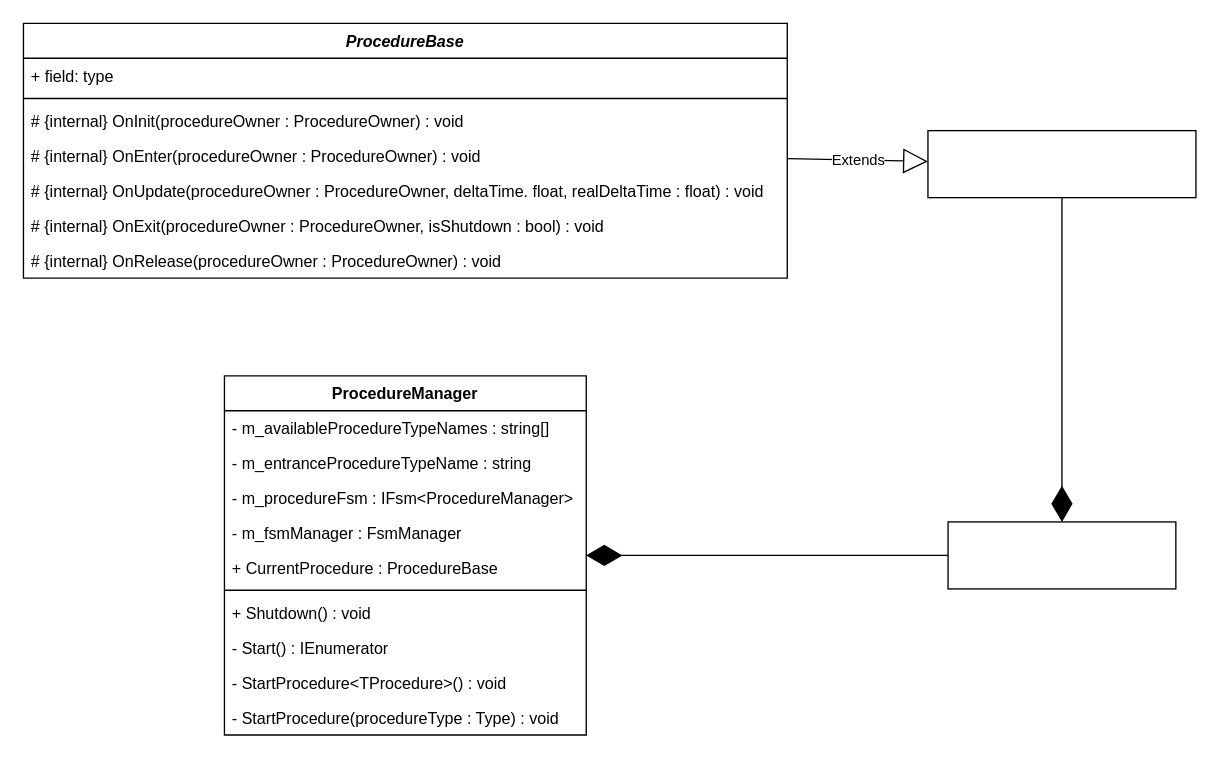
Image size: 1219x762. Some labels were removed from this diagram. The box of each missing label's shape, as (x1, y1, x2, y2) in pixels:
FsmState<ProcedureManager>: (927, 129, 1196, 198)
IFsm<ProcedureManager>: (947, 521, 1176, 589)
